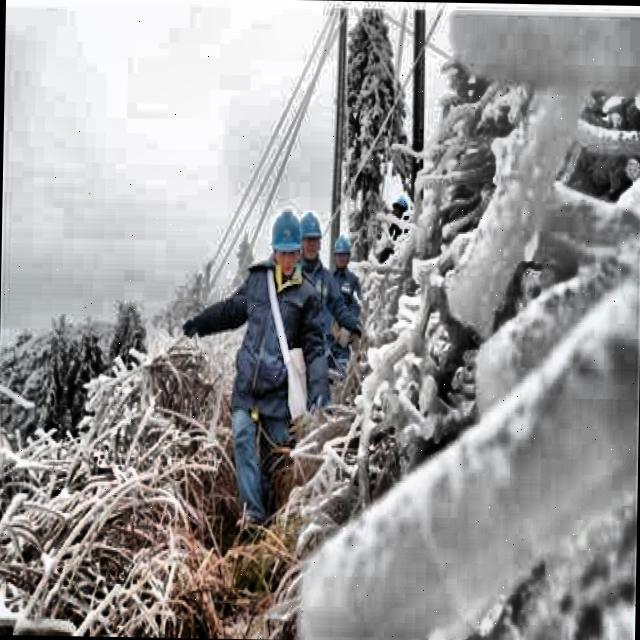helmet: (271, 209, 304, 280), (300, 206, 324, 264), (330, 231, 354, 279), (386, 191, 414, 227)
